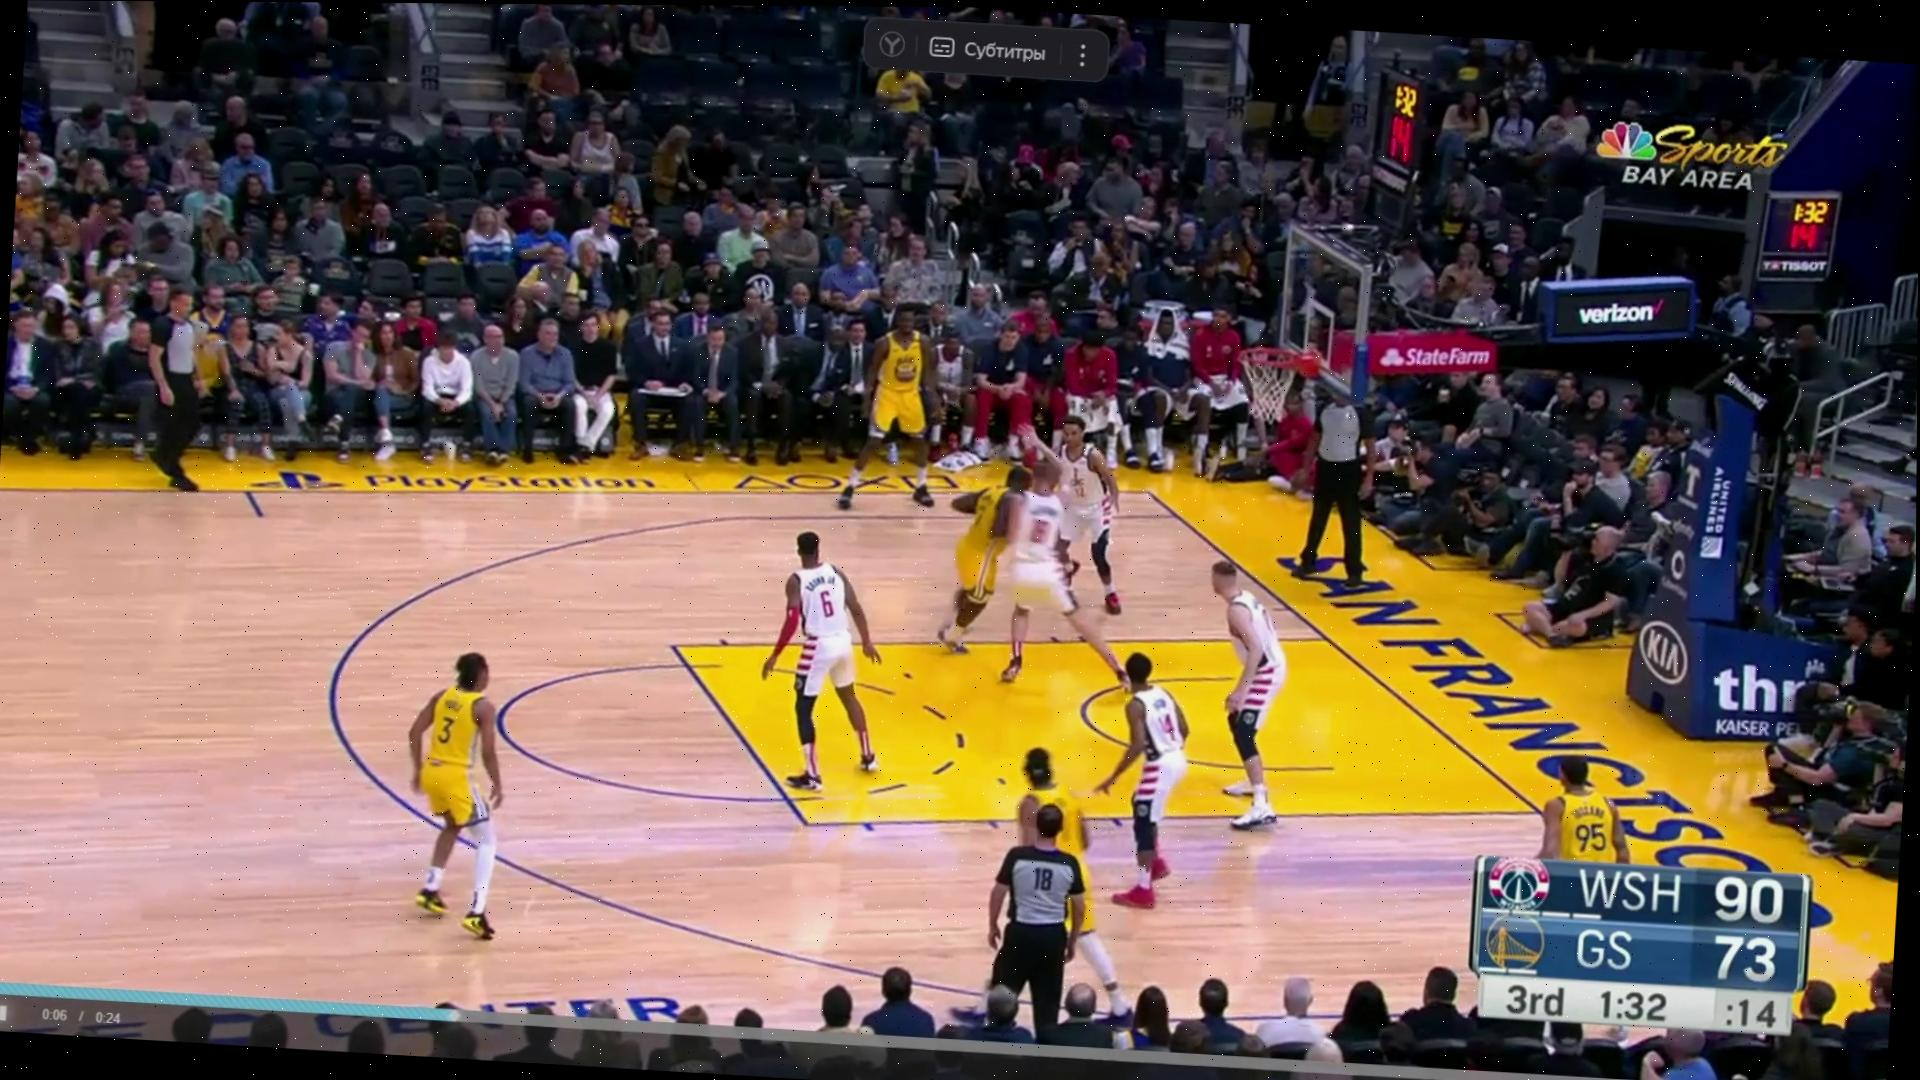foul: (932, 444, 1133, 702)
